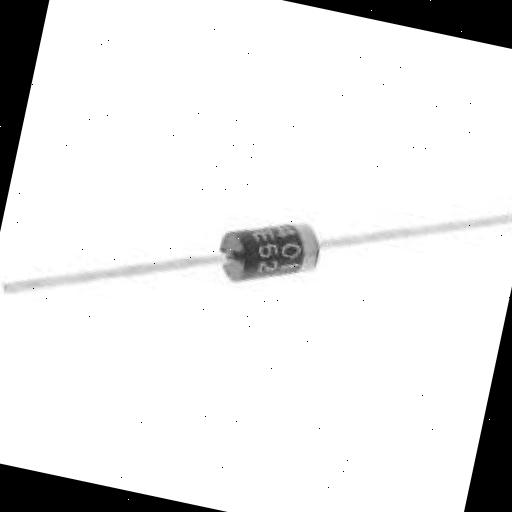DIODE: (138, 148, 480, 384)
